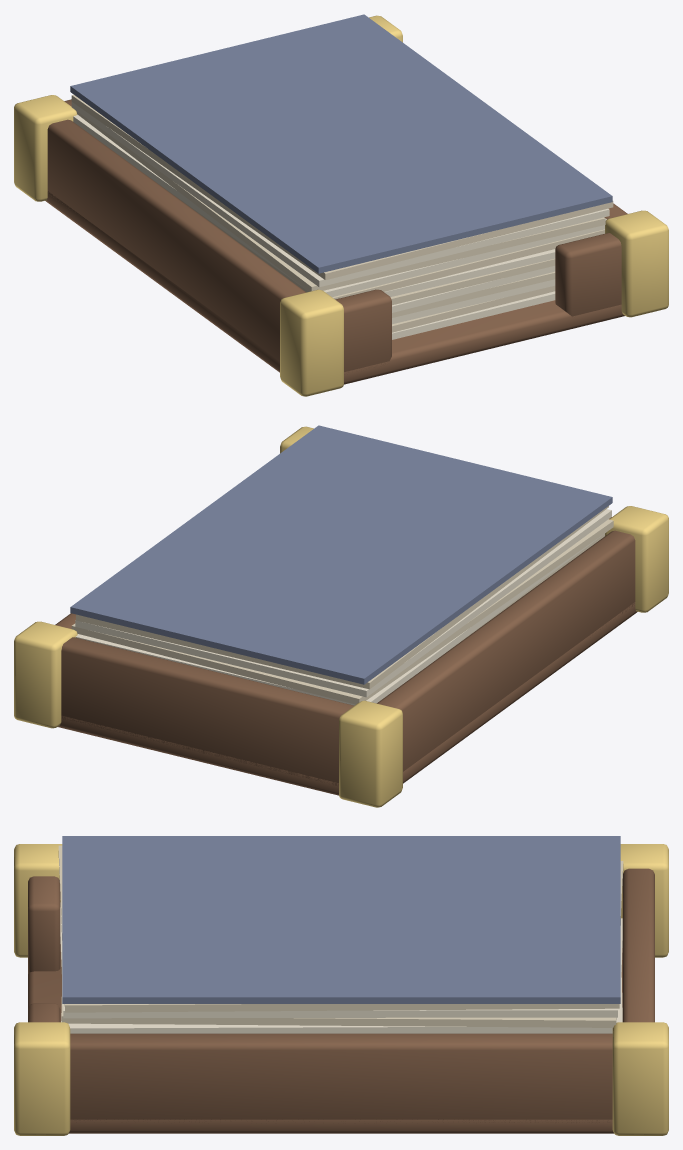
Rendered from deck_shoe.glb.
3 renders of one model, top to bottom at view 1: azimuth 30°, elevation 25°; view 2: azimuth 150°, elevation 25°; view 3: azimuth 270°, elevation 25°, orthographic. The views are drawn at different scales.
Parts seen in each view (by area): view 1: DeckTopCard, ShoeWallSide_L, ShoeBase, ShoeCornerBrass_-1_-1, ShoeCornerBrass_1_-1, ShoeWallFrontTab_R, DeckCardLayer_10, ShoeCornerBrass_-1_1, DeckCardLayer_9, DeckCardLayer_11, ShoeWallFrontTab_L, DeckCardLayer_8 (+8 smaller); view 2: DeckTopCard, ShoeWallBack, ShoeWallSide_L, ShoeBase, ShoeCornerBrass_-1_1, ShoeCornerBrass_1_1, DeckCardLayer_10, DeckCardLayer_9, ShoeCornerBrass_-1_-1, DeckCardLayer_11, DeckCardLayer_8; view 3: DeckTopCard, ShoeWallSide_R, ShoeBase, ShoeCornerBrass_1_-1, ShoeCornerBrass_1_1, ShoeWallBack, DeckCardLayer_9, DeckCardLayer_8, DeckCardLayer_10, DeckCardLayer_11, ShoeWallFrontTab_L, ShoeCornerBrass_-1_-1 (+2 smaller).
Boxes of the visible parts, x1,y1,x2,y2 form: DeckTopCard: (70, 14, 612, 273); ShoeWallSide_L: (47, 119, 305, 360); ShoeBase: (45, 191, 624, 384); ShoeCornerBrass_-1_-1: (280, 289, 343, 396); ShoeCornerBrass_1_-1: (605, 210, 668, 317); ShoeWallFrontTab_R: (555, 233, 621, 316); DeckCardLayer_10: (71, 102, 609, 287); ShoeCornerBrass_-1_1: (14, 95, 77, 201); DeckCardLayer_9: (75, 110, 605, 291); DeckCardLayer_11: (71, 94, 613, 280); ShoeWallFrontTab_L: (335, 289, 391, 374); DeckCardLayer_8: (73, 114, 606, 297); DeckTopCard: (70, 425, 612, 684); ShoeWallBack: (61, 637, 353, 785); ShoeWallSide_L: (377, 530, 635, 771); ShoeBase: (58, 602, 637, 795); ShoeCornerBrass_-1_1: (339, 700, 402, 807); ShoeCornerBrass_1_1: (14, 621, 77, 728); DeckCardLayer_10: (75, 509, 611, 697); DeckCardLayer_9: (71, 519, 613, 704); ShoeCornerBrass_-1_-1: (605, 506, 668, 612); DeckCardLayer_11: (76, 506, 608, 689); DeckCardLayer_8: (75, 533, 604, 705); DeckTopCard: (62, 836, 620, 1003); ShoeWallSide_R: (70, 1033, 612, 1122); ShoeBase: (28, 944, 622, 1133); ShoeCornerBrass_1_-1: (14, 1022, 70, 1135); ShoeCornerBrass_1_1: (612, 1022, 668, 1135); ShoeWallBack: (622, 868, 654, 1022); DeckCardLayer_9: (61, 861, 623, 1027); DeckCardLayer_8: (68, 932, 622, 1033); DeckCardLayer_10: (63, 1004, 617, 1018); DeckCardLayer_11: (58, 845, 619, 1012); ShoeWallFrontTab_L: (28, 876, 60, 973); ShoeCornerBrass_-1_-1: (14, 844, 62, 957).
Bounding box in the file's own units: 0.238 × 0.0682 × 0.326.
